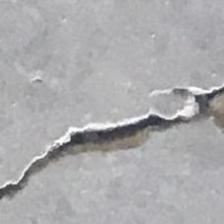Crack: (0, 79, 224, 224)
